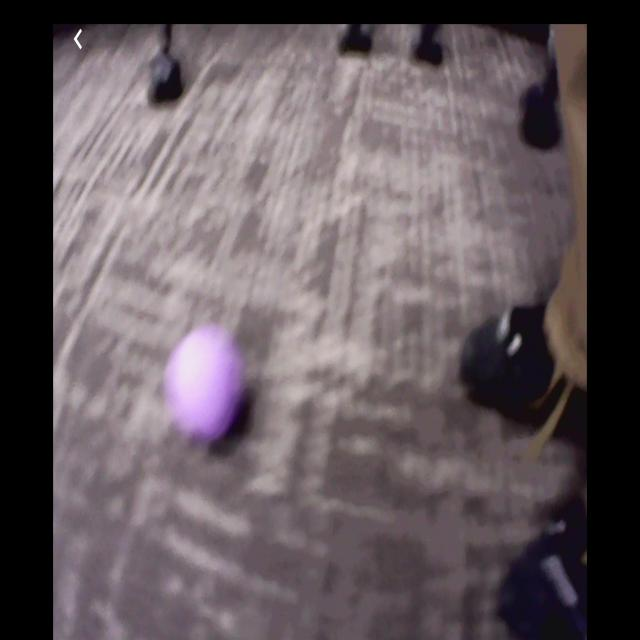ball: (171, 328, 239, 440)
